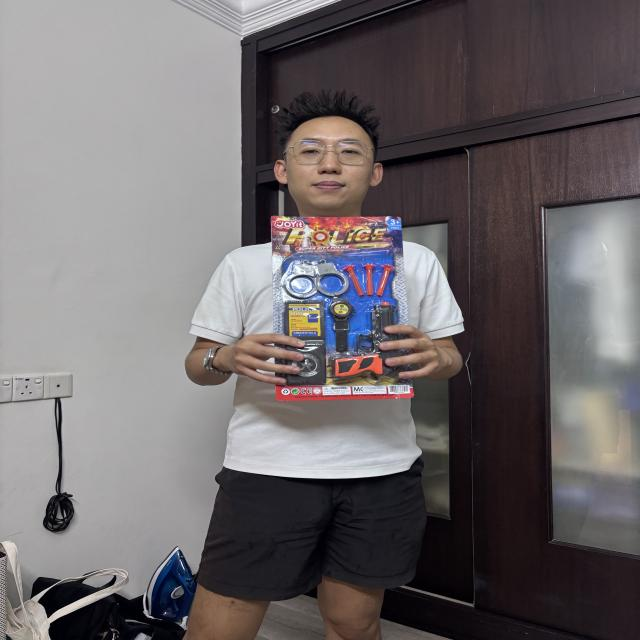Person: (167, 81, 473, 640)
